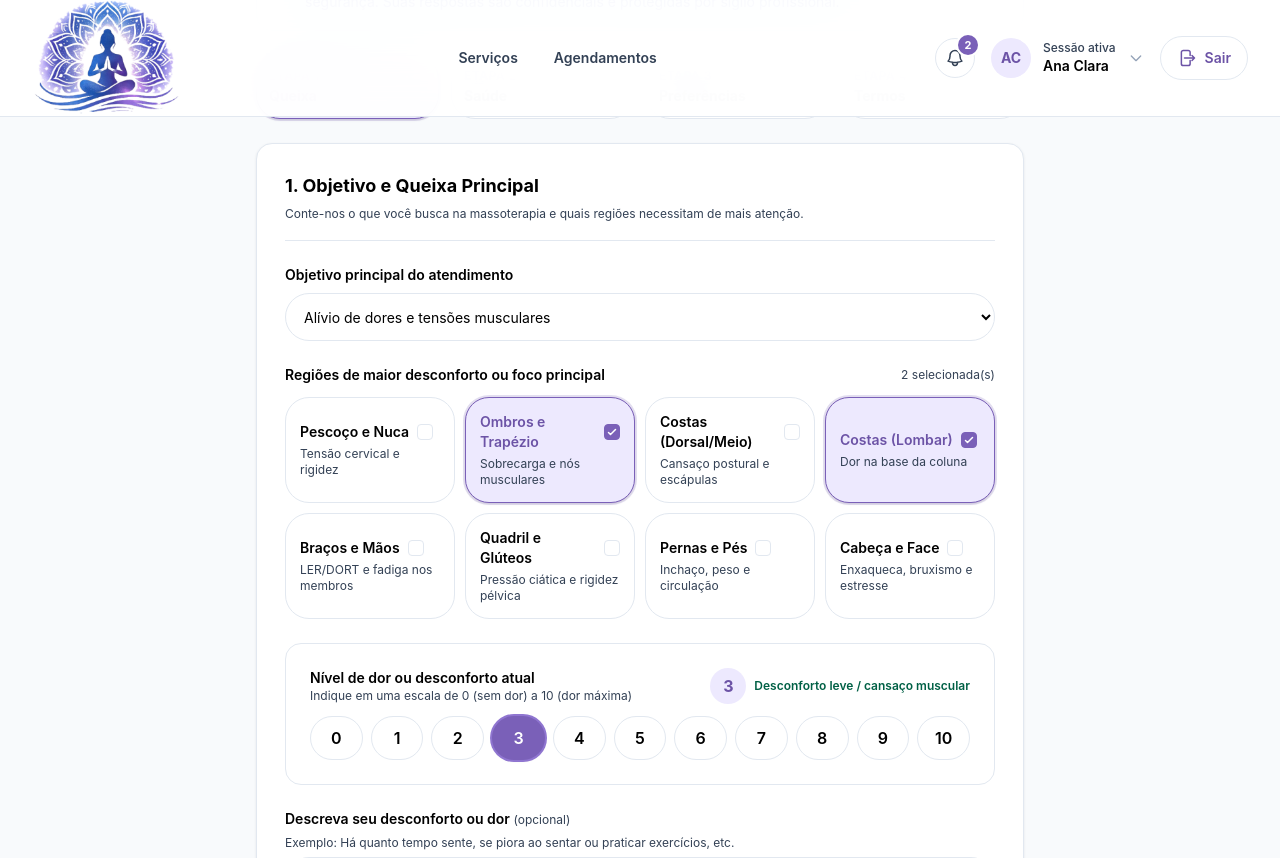
FichaAnamnesePage › permite selecionar regiões do corpo e alterar a escala de dor
(page scrolled)
// Seleciona região de pescoço
Click the checkbox labelled "Pescoço e Nuca Tensão cervical e rigidez". click: point(370, 450)
box: [285,397,455,503]
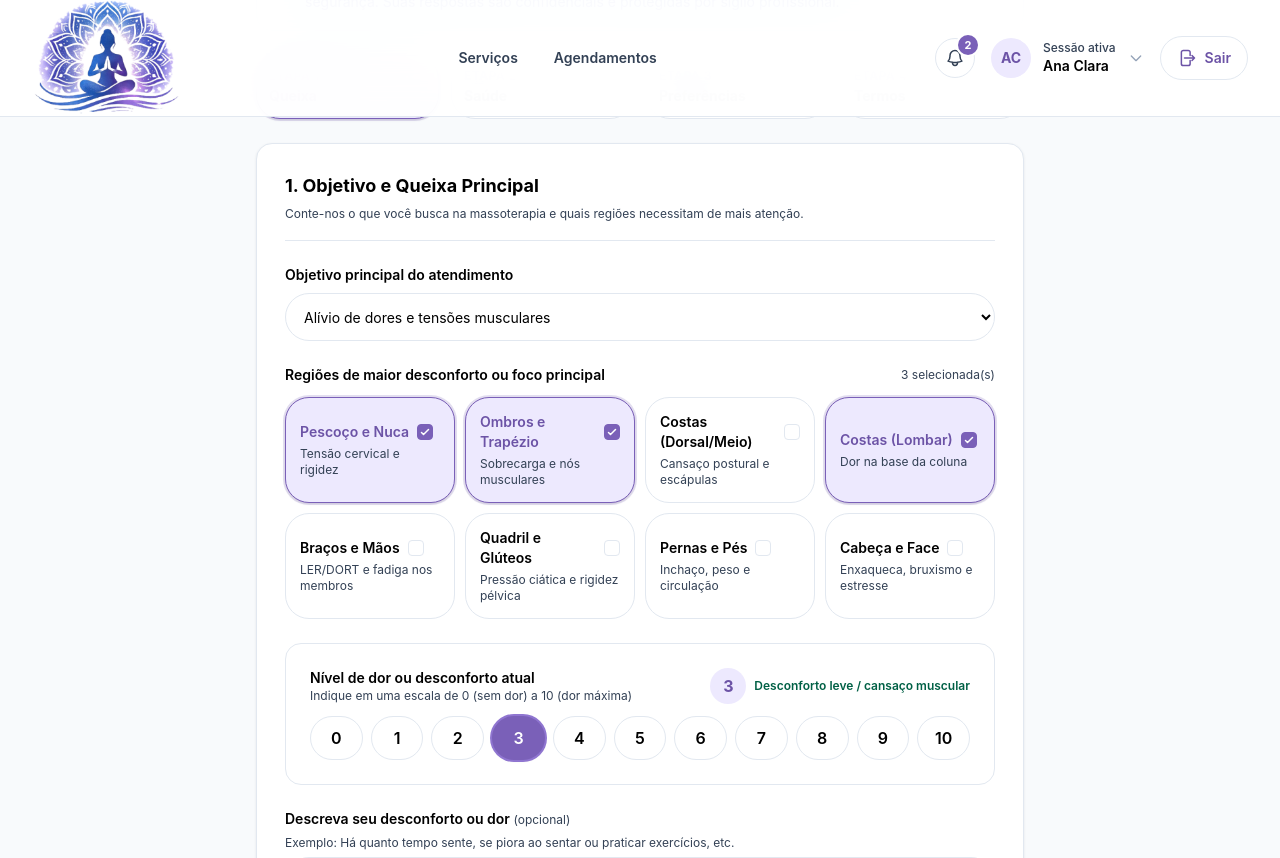
Check: the checkbox labelled "Pescoço e Nuca Tensão cervical e rigidez" is checked, box [285,397,455,503]
// Altera escala de dor para 7
Click the radio button labelled "7". click: point(761, 738)
box: [735,716,788,760]
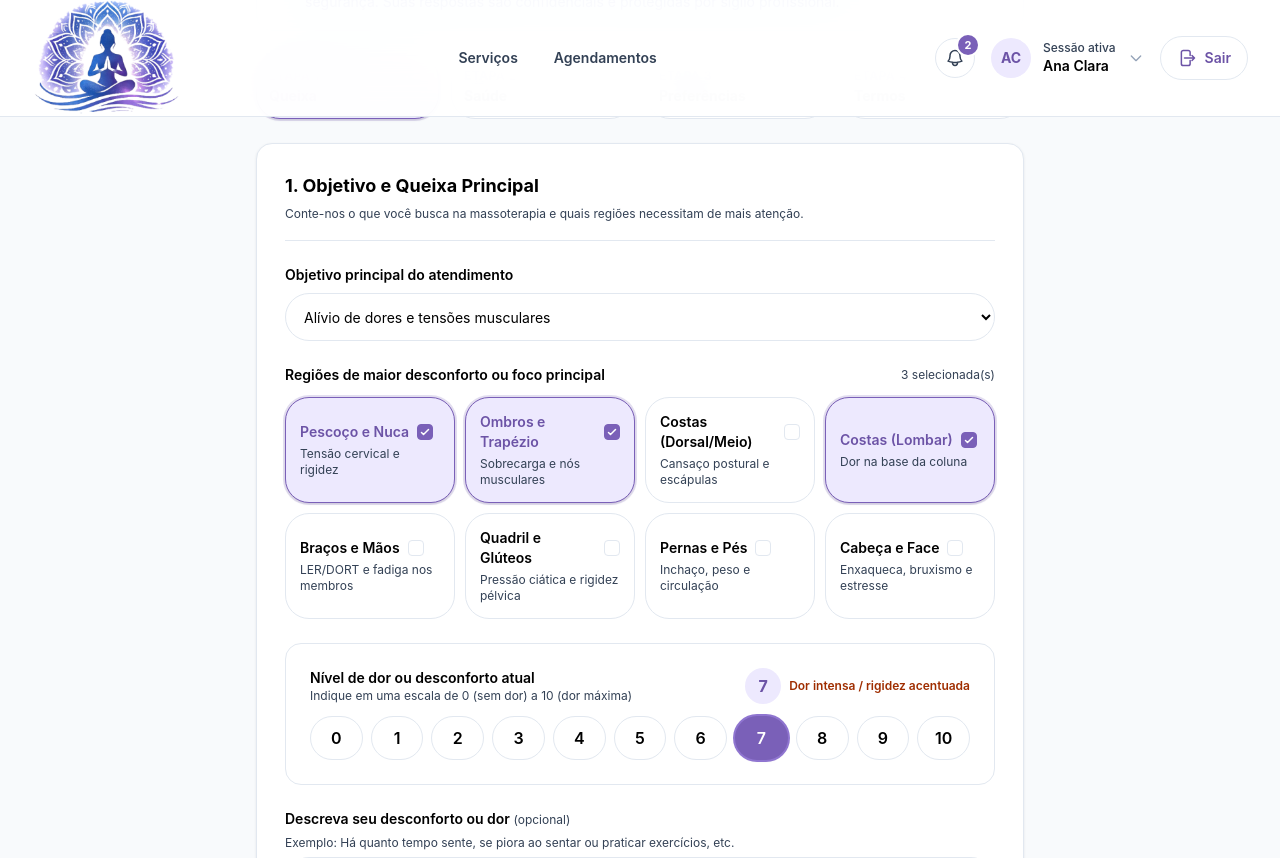
Check: the text "Dor intensa / rigidez acentuada" is shown, box [789,678,970,694]
